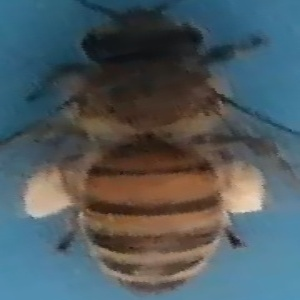bee: (27, 1, 277, 296)
